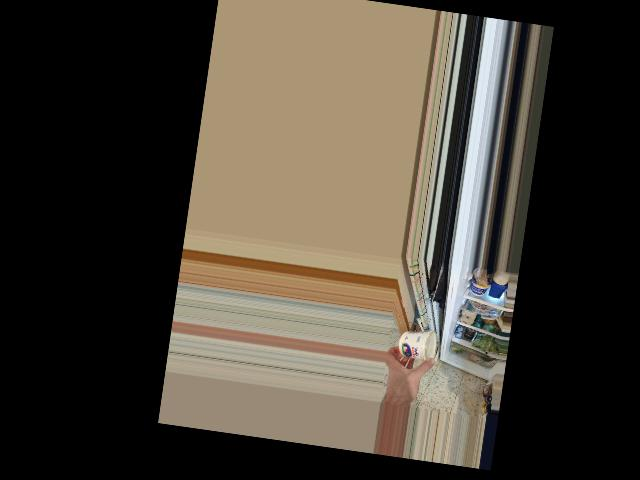cotage: (394, 325, 436, 361)
